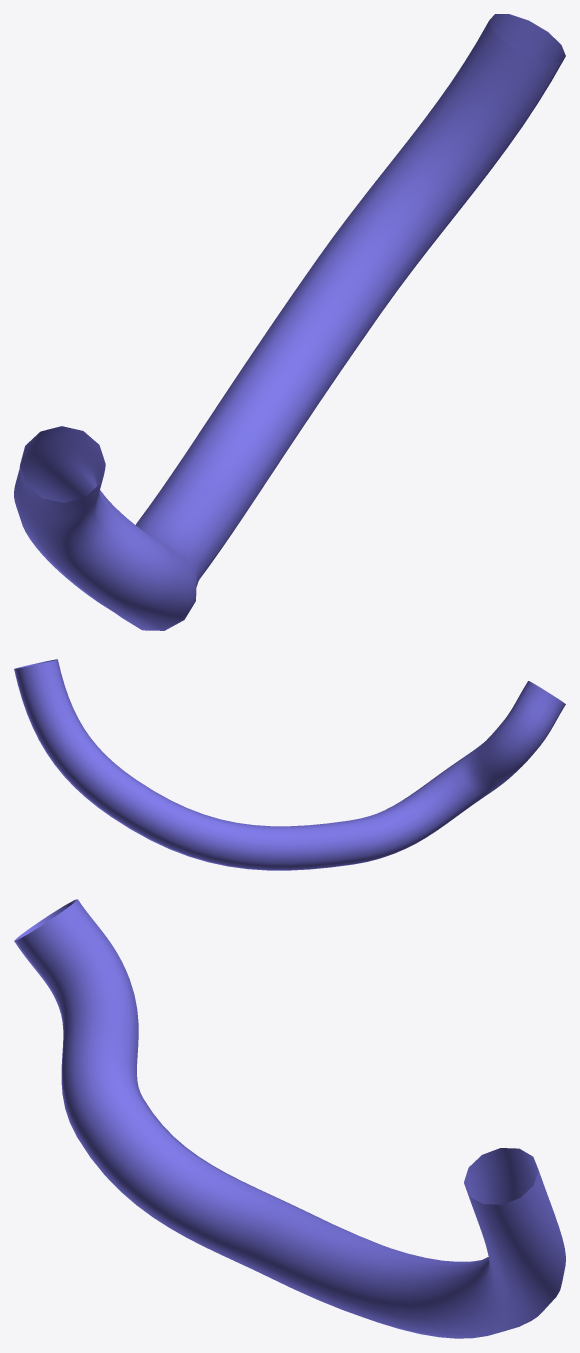
File: Coronary_sinus.glb
3 views of the same model, one above another, from view 1: azimuth 30°, elevation 25°; view 2: azimuth 150°, elevation 25°; view 3: azimuth 270°, elevation 25° (orthographic). The views are drawn at different scales.
Visible parts, largest first — view 1: Coronary_sinus_BezierCurve.455; view 2: Coronary_sinus_BezierCurve.455; view 3: Coronary_sinus_BezierCurve.455.
Part boxes in pixels (x1,y1,x2,y2): Coronary_sinus_BezierCurve.455: (14,14,565,630); Coronary_sinus_BezierCurve.455: (14,659,565,870); Coronary_sinus_BezierCurve.455: (14,899,565,1338).
Size of the model in its own units: 0.053 by 0.0235 by 0.0359.
